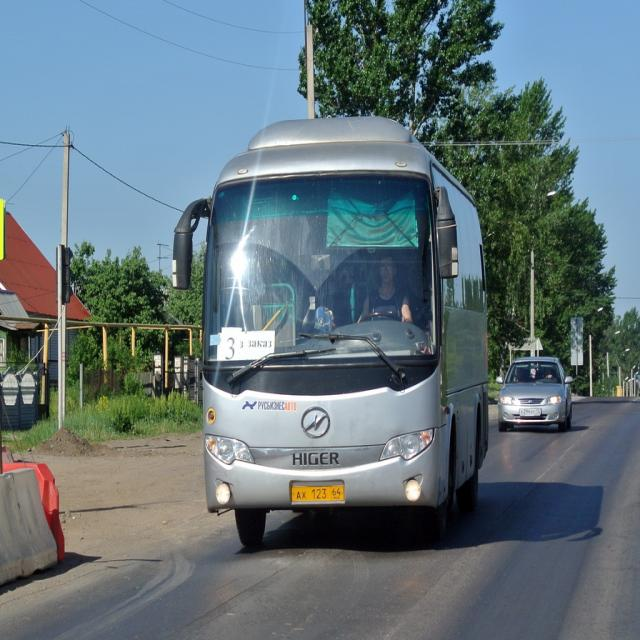number-of-bus: (224, 335, 239, 362)
